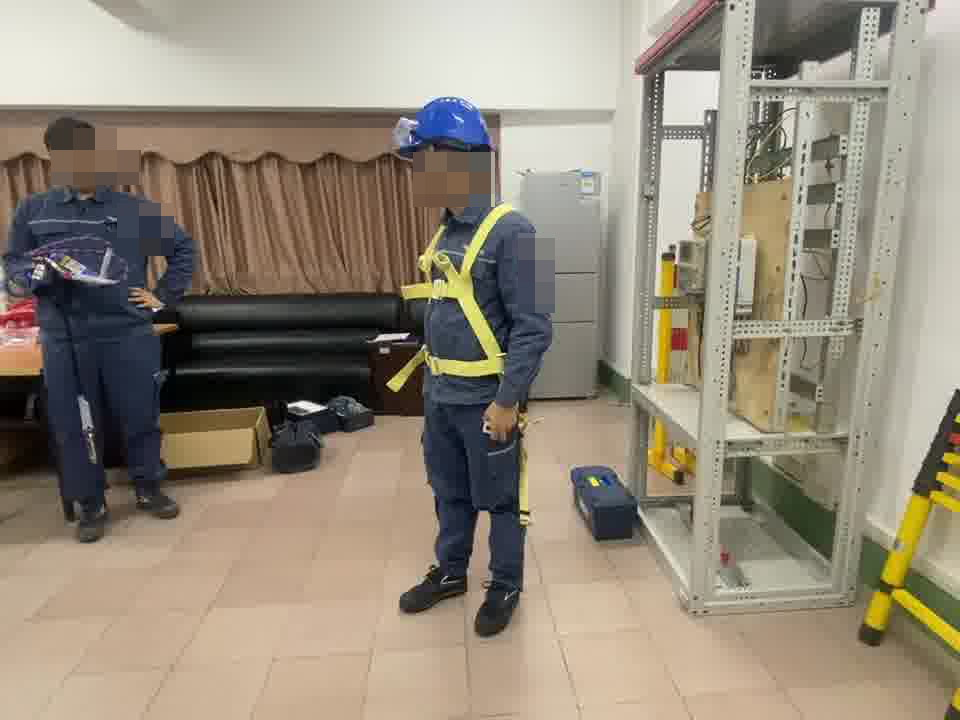downsuit: (38, 331, 169, 503), (421, 409, 526, 588)
halt: (396, 96, 497, 200)
hand: (481, 399, 518, 442), (126, 282, 163, 314)
inear: (426, 142, 465, 190)
person: (392, 95, 555, 640), (8, 114, 197, 541)
safebelt: (387, 204, 537, 531)
sleeve: (517, 246, 545, 283)
unhalt: (44, 114, 108, 189)
upsuit: (2, 187, 193, 332), (419, 193, 549, 406)
